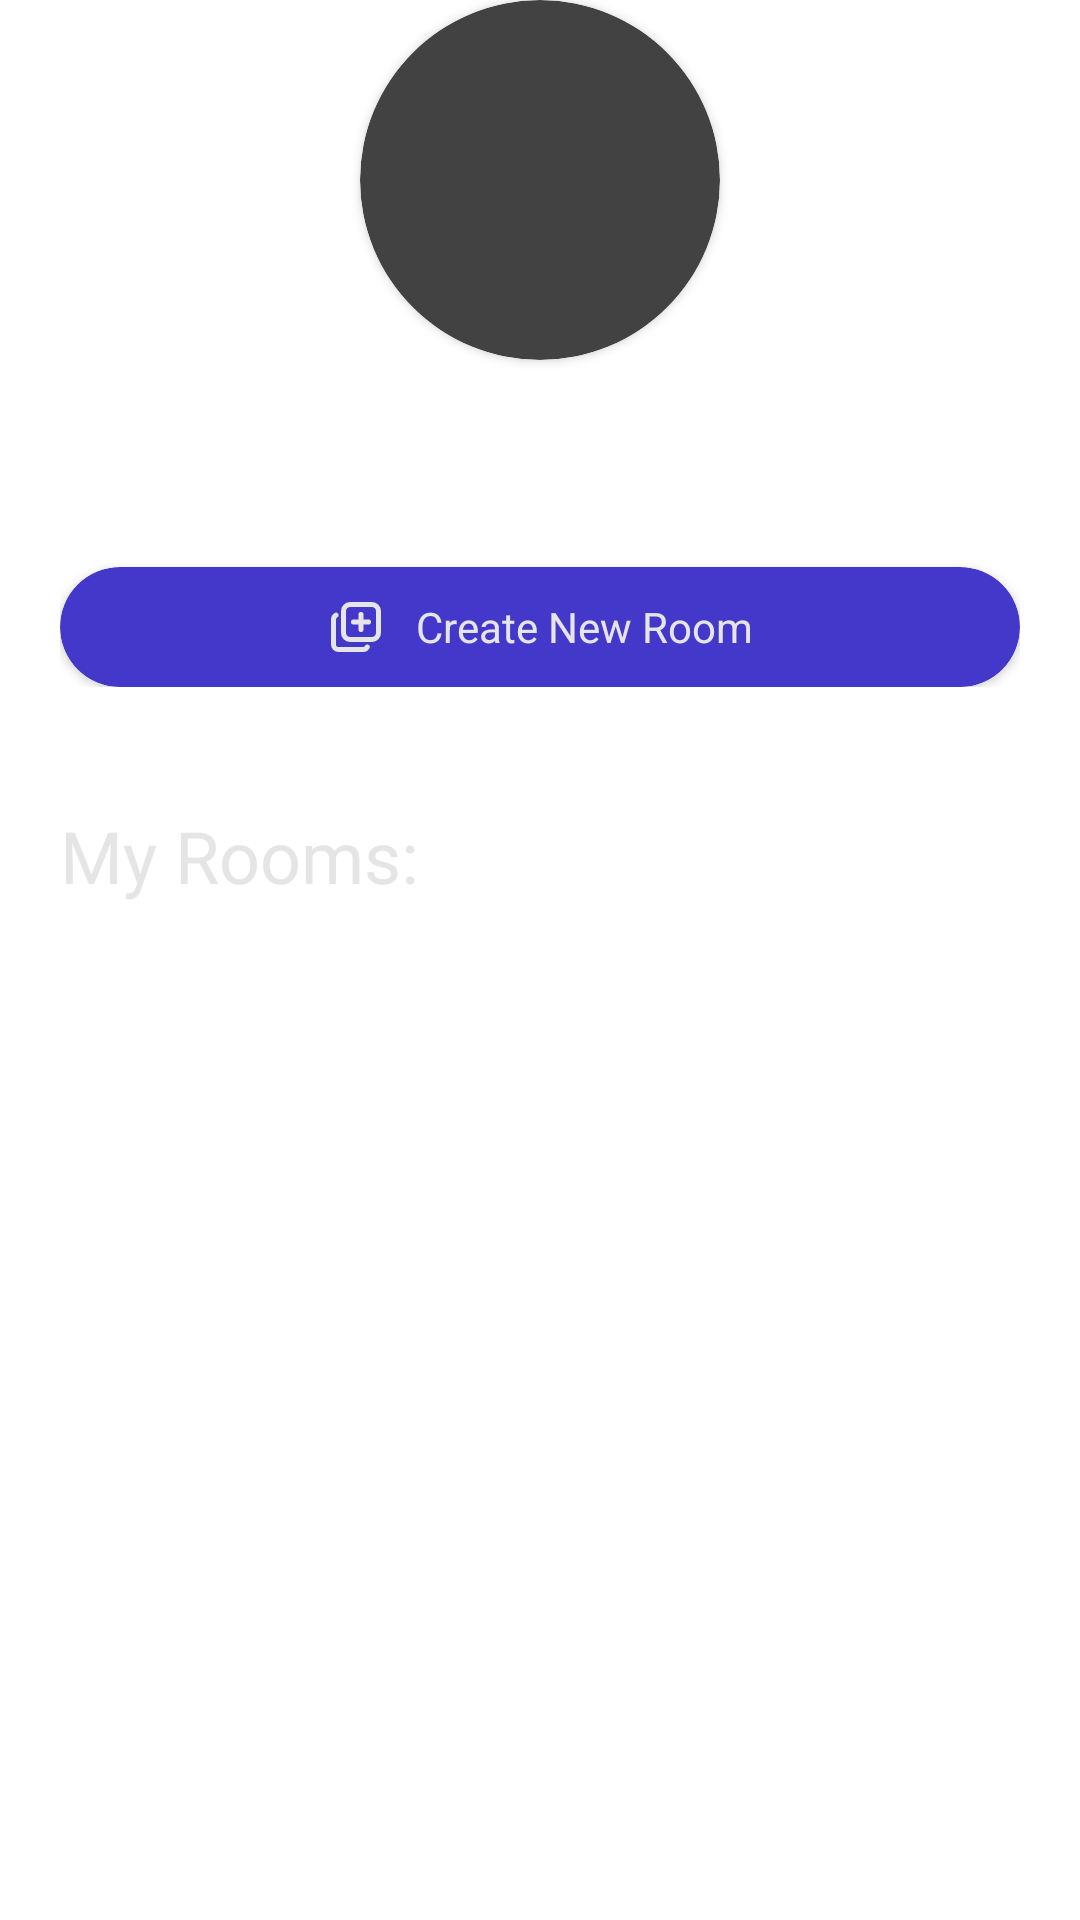

Named icons in this screenshot (1080×1920) and their centers, [x,y]:
rect plus: [356,627]
